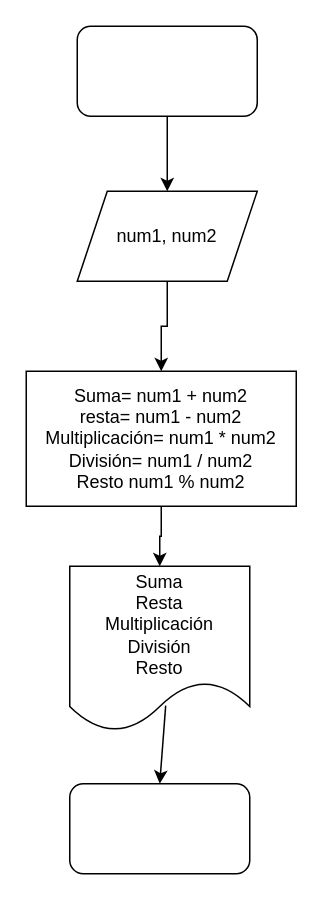
This 323x900 diagram has some shape labels left out. The shapes that lost their labels are listed below. From the top down, each one's box as (x1, y1, x2, y2) in pixels, then its label:
(76, 25, 257, 116): Inicio
(68, 782, 250, 874): Fin
